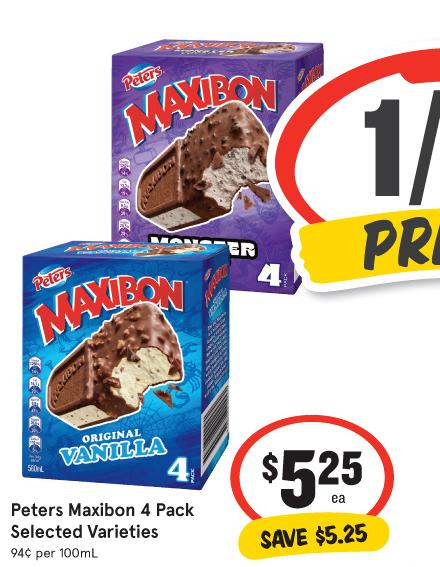description_block: (3, 491, 195, 540)
price_main: (251, 440, 369, 511)
product_image_block: (1, 38, 269, 482)
promo_text_block: (249, 521, 389, 558)
unit_price_block: (3, 542, 112, 565)
